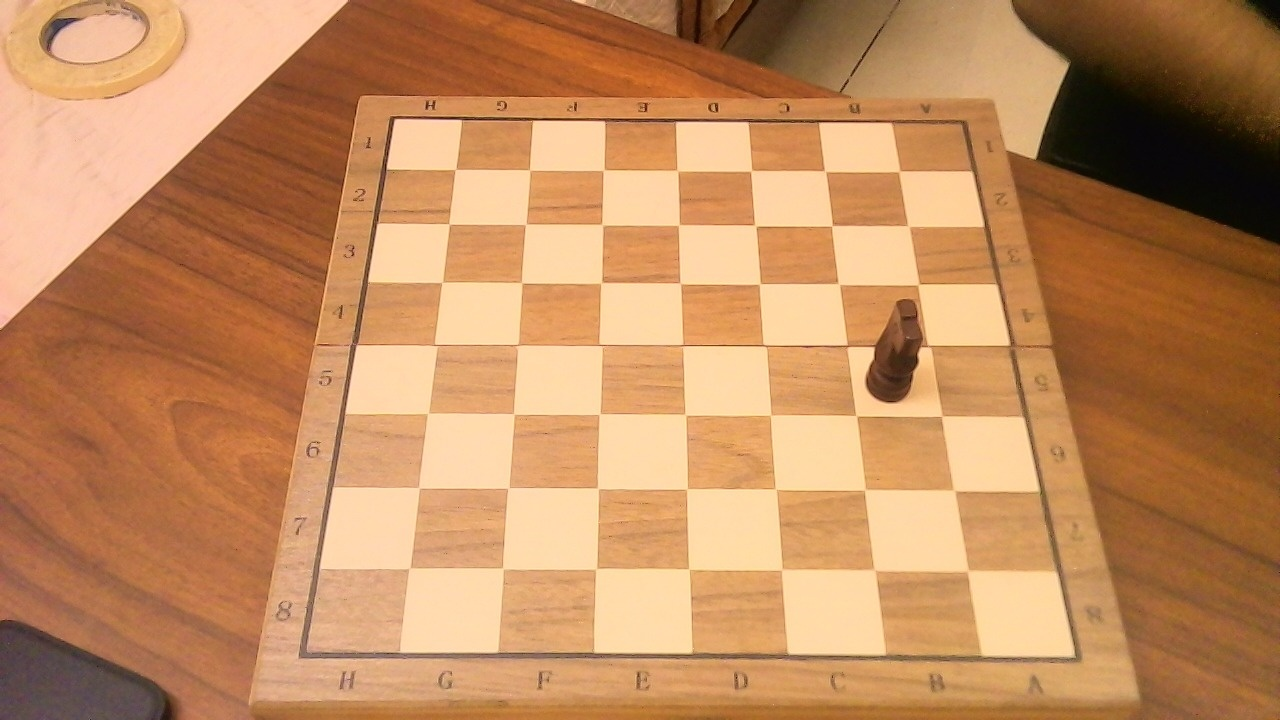n: (858, 326, 936, 407)
